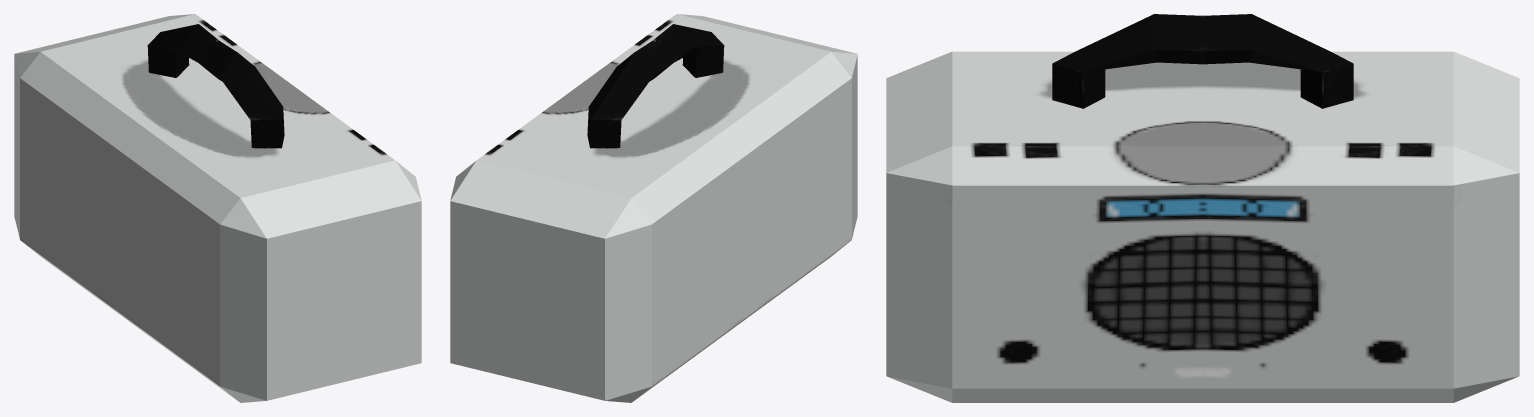
The model's file is boombox.fbx.
3 renders of one model, left to right at view 1: azimuth 30°, elevation 25°; view 2: azimuth 150°, elevation 25°; view 3: azimuth 270°, elevation 25°, orthographic. The views are drawn at different scales.
Visible parts, largest first — view 1: Cube; view 2: Cube; view 3: Cube.
Boxes of the visible parts, x1,y1,x2,y2 form: Cube: (14,14,421,402); Cube: (450,14,857,402); Cube: (886,14,1519,402).
Bounding box in the file's own units: 200 × 266 × 447.
1 material, 1 textured.
